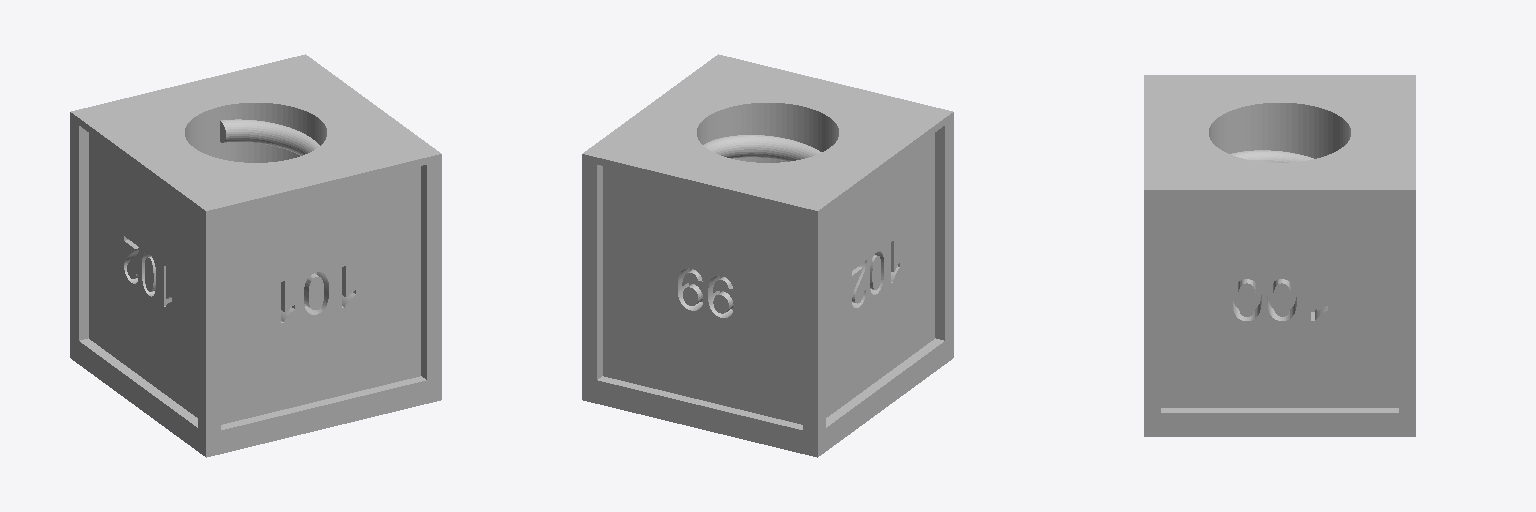
Rendered from chair_nut1_prev.obj.
3 views of the same model, side by side, from view 1: azimuth 30°, elevation 25°; view 2: azimuth 150°, elevation 25°; view 3: azimuth 270°, elevation 25° (orthographic).
Parts seen in each view (by area): view 1: chair_nut1; view 2: chair_nut1; view 3: chair_nut1.
Boxes of the visible parts, <box> form: chair_nut1: <box>70,54,441,457</box>; chair_nut1: <box>582,54,953,457</box>; chair_nut1: <box>1144,75,1415,436</box>.
Bounding box in the file's own units: 0.03 × 0.03 × 0.03.